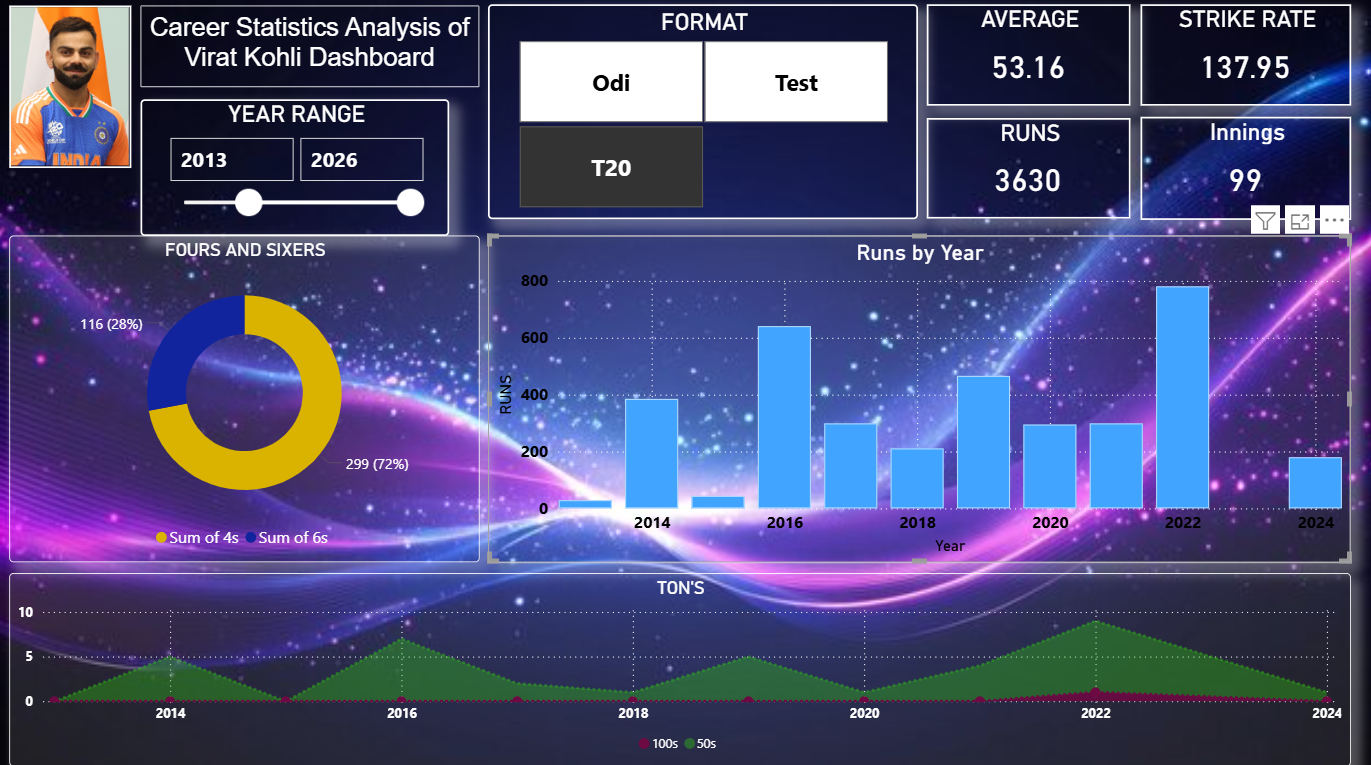

Layout of this report page (visuals, bound fields, positions):
{"tool":"powerbi","page":{"name":"Page 1","canvas":[1280,720],"ordinal":0},"visuals":[{"type":"image","box":[10,11.1,113.5,151.4],"z":0},{"type":"textbox","box":[132.5,11.1,315,75.7],"z":1000},{"type":"card","title":"Innings","fields":{"Values":["Sum(overall.Innings)"]},"box":[1063.1,114.7,195.9,95.7],"z":2000},{"type":"card","title":"RUNS","fields":{"Values":["Sum(overall.Runs)"]},"box":[863.8,115.8,189.2,93.5],"z":3000},{"type":"card","title":"AVERAGE","fields":{"Values":["Avg(overall.Avg)"]},"box":[863.8,10,189.2,94.6],"z":4000},{"type":"card","title":"STRIKE RATE","fields":{"Values":["Avg(overall.SR)"]},"box":[1063.1,10,195.9,94.6],"z":5000},{"type":"slicer","title":"FORMAT","fields":{"Values":["overall.Format"]},"box":[455.3,10,399.6,200.4],"z":6000},{"type":"slicer","title":"YEAR RANGE","fields":{"Values":["overall.Year"]},"box":[132.5,99.1,287.2,126.9],"z":7000},{"type":"clusteredColumnChart","title":" Runs by Year","fields":{"Y":["Sum(overall.Runs)"],"Category":["overall.Year"]},"box":[455.8,225.6,802.3,304.7],"z":8000},{"type":"donutChart","title":"FOURS AND SIXERS","fields":{"Y":["Sum(overall.4s)","Sum(overall.6s)"]},"box":[10,226,437.5,303.9],"z":9000},{"type":"stackedAreaChart","title":"TON''S","fields":{"Y":["Sum(overall.100)","Sum(overall.50)"],"Category":["overall.Year"]},"box":[10.5,539.5,1247.7,180.2],"z":10000}]}

Visuals, with their boxes in screenshot pixels (x1, y1, x2, y2), scaled from the page's 1280x720 canvas onto the 1371x765 screenshot:
image: <region>11, 12, 132, 173</region>
textbox: <region>142, 12, 479, 92</region>
"Innings" card: <region>1139, 122, 1349, 224</region>
"RUNS" card: <region>925, 123, 1128, 222</region>
"AVERAGE" card: <region>925, 11, 1128, 111</region>
"STRIKE RATE" card: <region>1139, 11, 1349, 111</region>
"FORMAT" slicer: <region>488, 11, 916, 224</region>
"YEAR RANGE" slicer: <region>142, 105, 450, 240</region>
" Runs by Year" clusteredColumnChart: <region>488, 240, 1348, 563</region>
"FOURS AND SIXERS" donutChart: <region>11, 240, 479, 563</region>
"TON''S" stackedAreaChart: <region>11, 573, 1348, 764</region>
